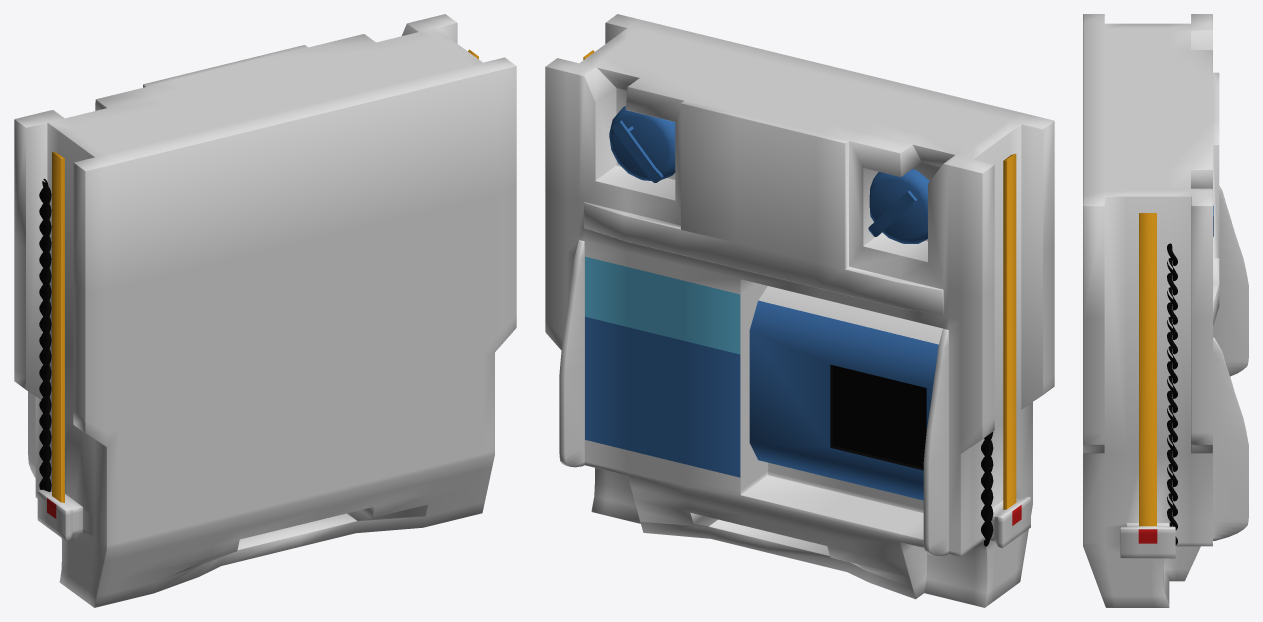
The picture shows the model from 3 angles, left to right: view 1: azimuth 30°, elevation 25°; view 2: azimuth 150°, elevation 25°; view 3: azimuth 270°, elevation 25°; orthographic projection. The views are drawn at different scales.
Visible parts, largest first — view 1: Cube; view 2: Cube; view 3: Cube.
Boxes of the visible parts, box(x1,y1,x2,y2) form: Cube: box(14, 14, 516, 607); Cube: box(545, 14, 1054, 607); Cube: box(1083, 14, 1248, 607).
Size of the model in its own units: 42 by 42 by 15.32.
